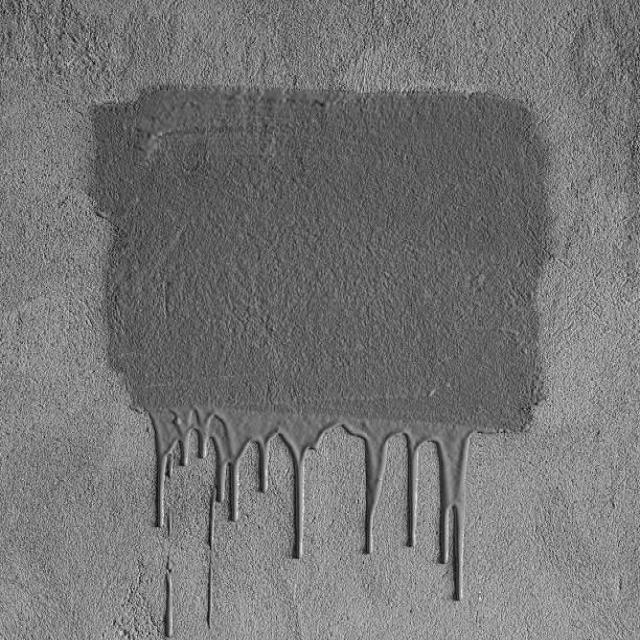paint drips: (136, 397, 482, 640)
